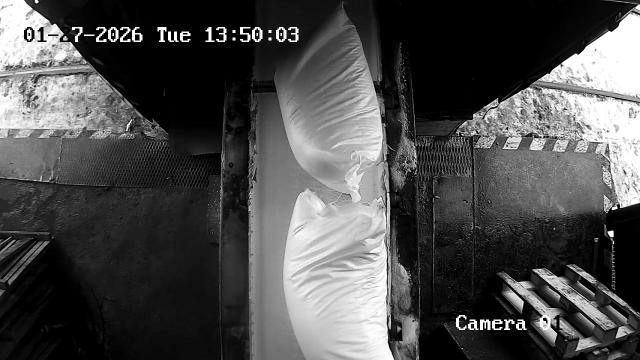bag: (274, 1, 383, 201), (284, 189, 395, 360)
